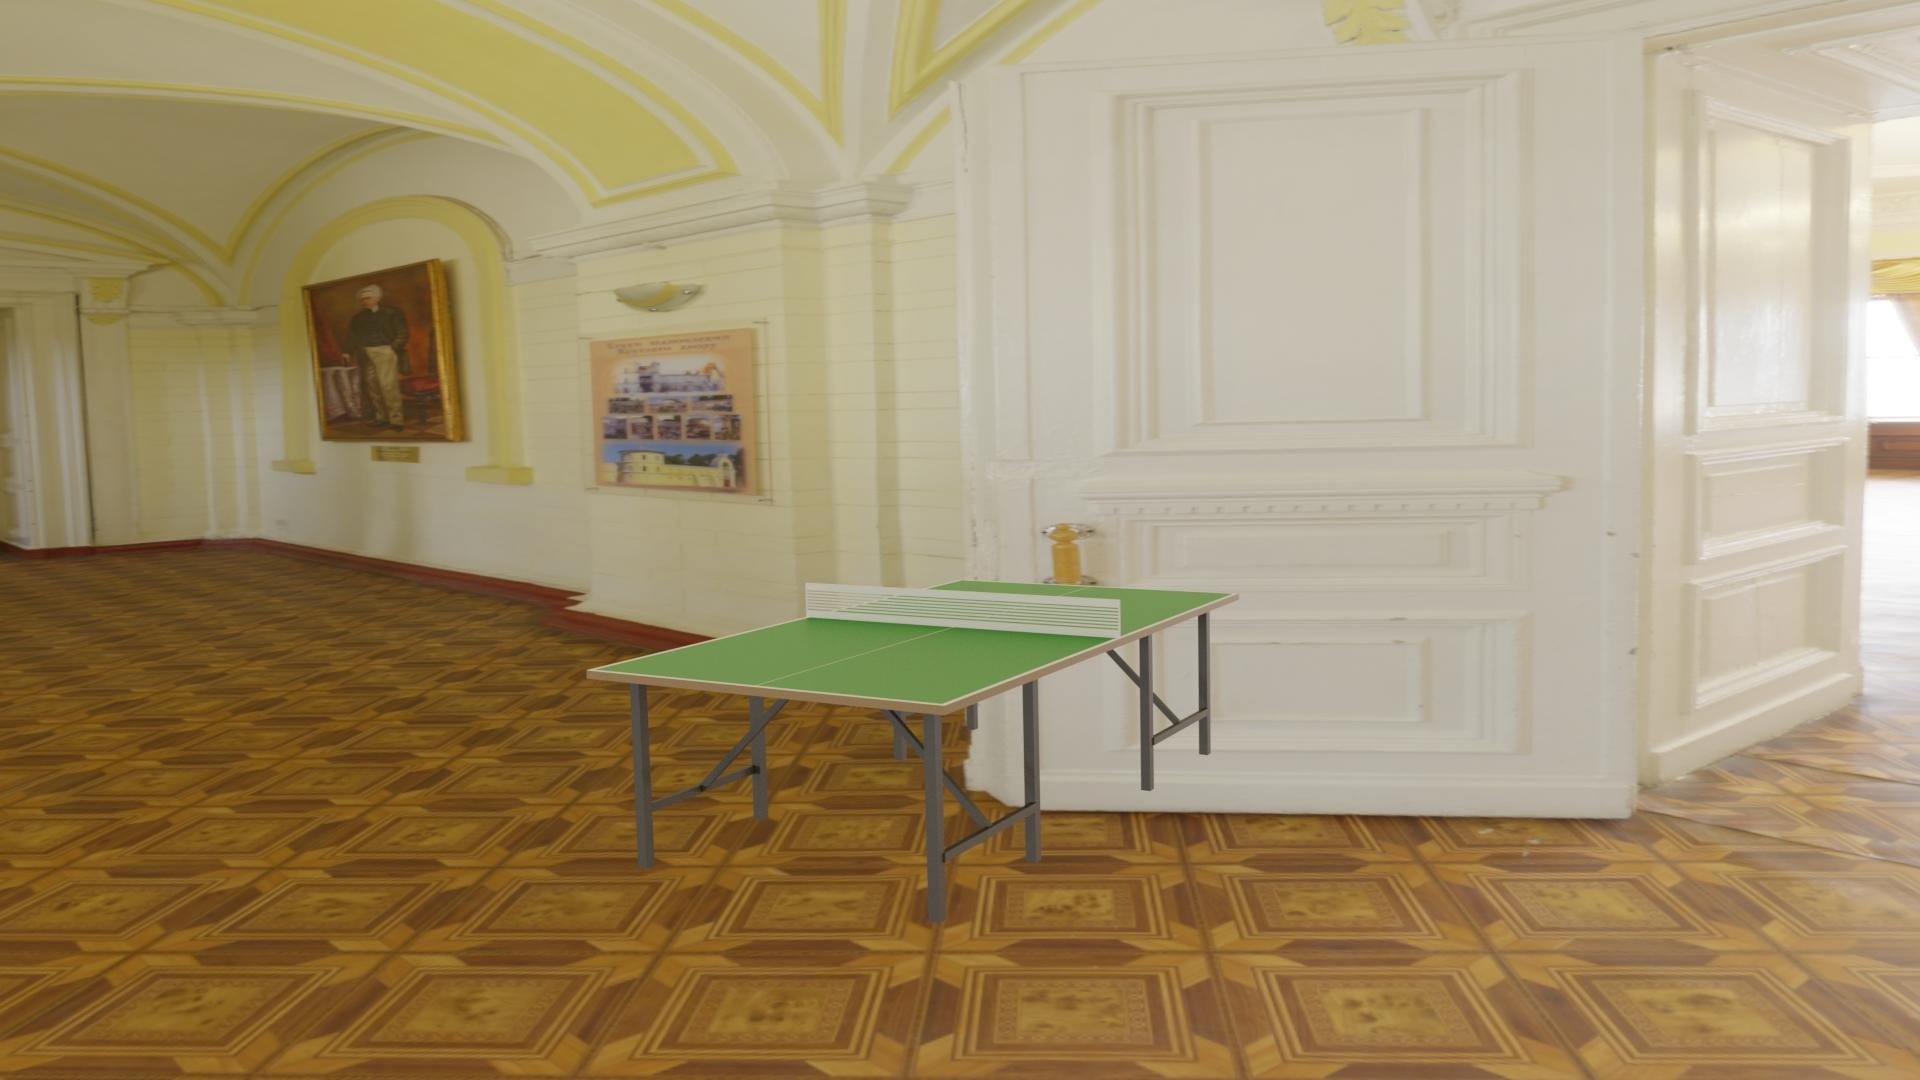table: (595, 580, 1233, 704)
